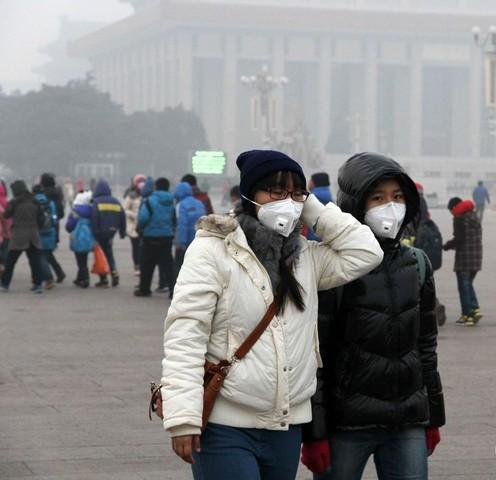person: (159, 149, 384, 477), (297, 152, 448, 480), (131, 175, 179, 297), (441, 195, 483, 324), (1, 179, 43, 291), (169, 180, 208, 298), (23, 184, 66, 285), (90, 178, 127, 289), (36, 170, 68, 285), (118, 174, 152, 277), (179, 172, 214, 272), (64, 189, 98, 288), (305, 170, 333, 267), (469, 179, 491, 222)
